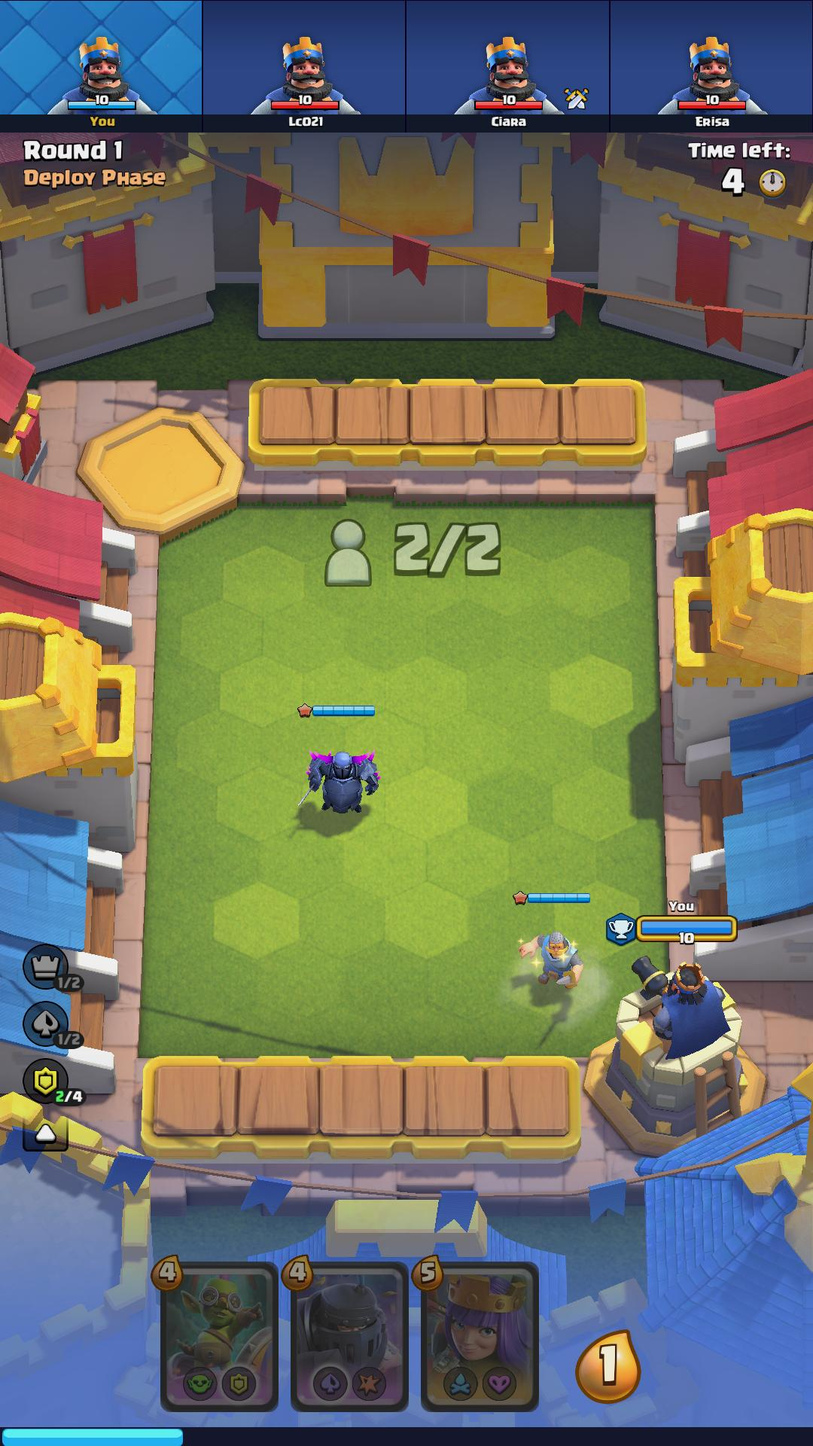hand-machine: (162, 1260, 276, 1407)
hand-mega: (292, 1265, 409, 1407)
hand-queen: (422, 1267, 539, 1411)
knight: (512, 913, 590, 994)
pekka: (297, 741, 380, 821)
